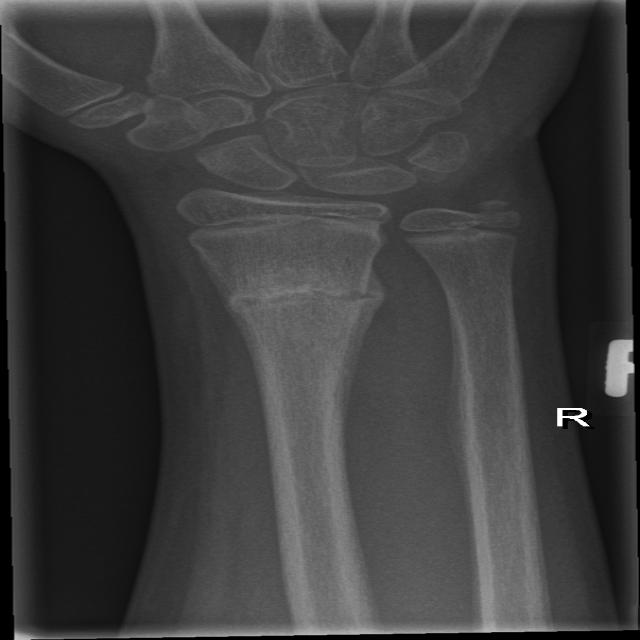radius fracture: (203, 260, 405, 372)
